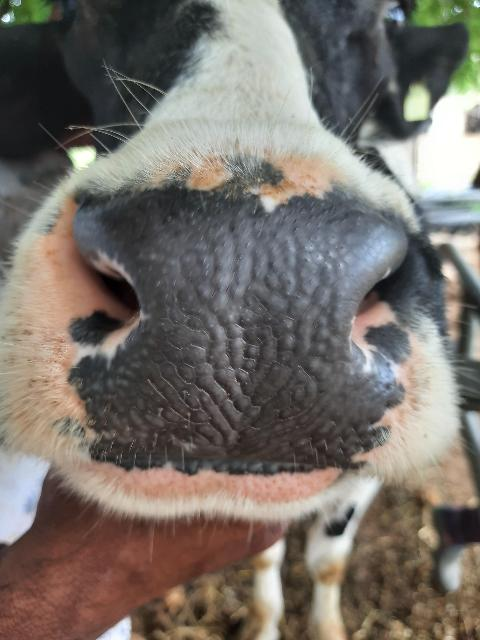Muzzle: (142, 204, 346, 461)
